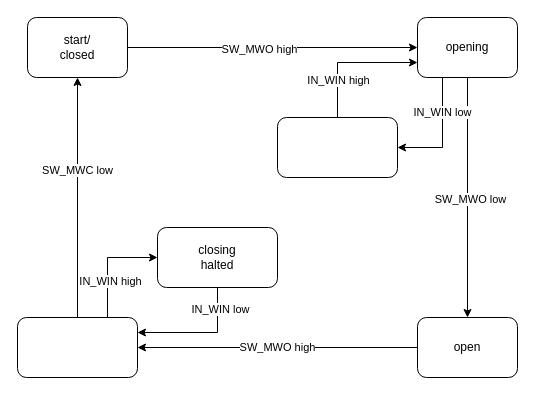
Some shapes in this 535 by 395 pixel diagram are drawn without their labels. Here are the shapes that lost their labels. From the top down, the centre of each, then its label:
At (x=337, y=147): "opening halted".
At (x=77, y=347): "closing".
